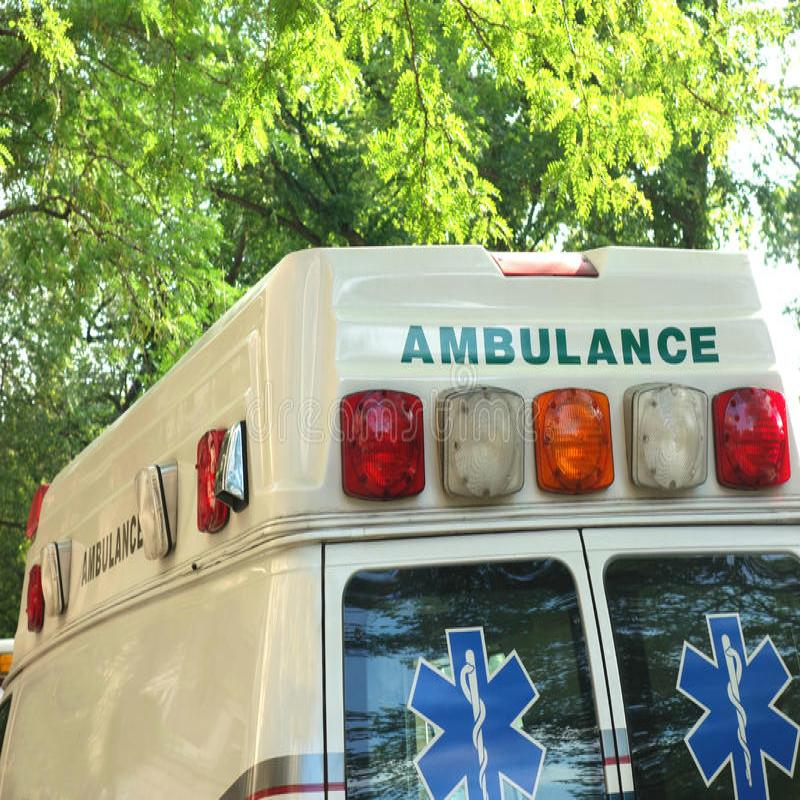AmbulanceSiren: (331, 364, 800, 535)
